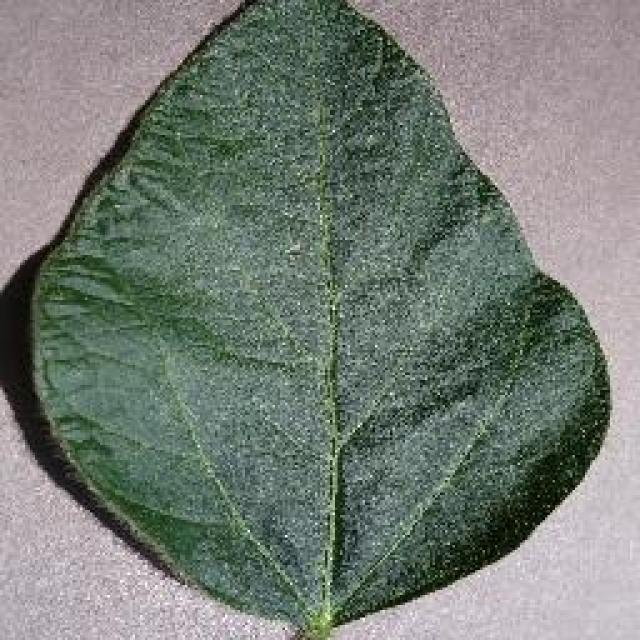Soy_healthy: (57, 38, 553, 531)
